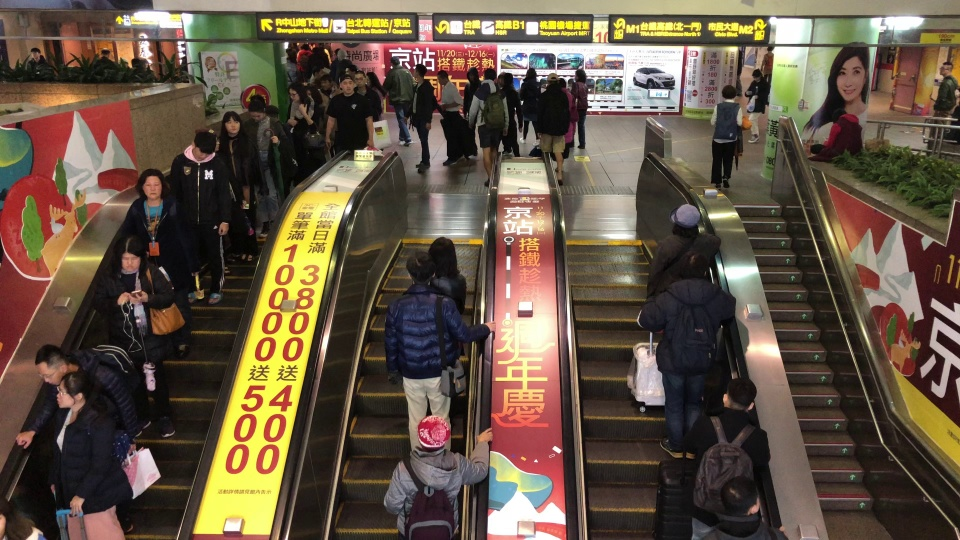person_head: (33, 344, 82, 385), (718, 475, 761, 516), (415, 414, 452, 451), (721, 376, 758, 412), (427, 236, 460, 275), (54, 373, 85, 410), (404, 251, 436, 285), (668, 203, 701, 235), (677, 250, 711, 280), (119, 237, 146, 274), (135, 167, 167, 198), (187, 132, 215, 163), (195, 126, 220, 151), (221, 111, 243, 138), (247, 94, 267, 121), (0, 497, 13, 537), (288, 82, 306, 102), (719, 84, 737, 103), (464, 68, 481, 85), (413, 63, 428, 82), (340, 74, 354, 93), (831, 108, 847, 124), (939, 61, 954, 76), (437, 68, 450, 85), (573, 68, 587, 83), (353, 71, 366, 87), (750, 67, 763, 83), (318, 74, 331, 89), (366, 72, 379, 87), (482, 68, 497, 81), (545, 72, 559, 85), (29, 47, 42, 60), (524, 68, 537, 81), (503, 72, 514, 87), (388, 56, 401, 68), (100, 47, 111, 57), (119, 57, 130, 67), (140, 57, 149, 69), (131, 56, 140, 68), (558, 77, 567, 89), (337, 49, 347, 58), (765, 44, 774, 53), (332, 48, 340, 58), (300, 43, 309, 50)
person_vbox: (14, 344, 144, 532), (383, 251, 496, 453), (639, 250, 738, 455), (32, 372, 129, 540), (100, 236, 176, 441), (381, 414, 493, 540), (687, 376, 771, 539), (124, 167, 191, 357), (166, 131, 232, 303), (646, 202, 721, 327), (244, 94, 301, 239), (194, 126, 243, 275), (221, 108, 257, 261), (700, 475, 774, 540), (468, 67, 508, 184), (709, 83, 751, 191), (404, 61, 438, 174), (537, 72, 570, 186), (325, 78, 375, 153), (427, 235, 470, 317), (380, 55, 417, 148), (286, 81, 318, 185), (807, 108, 863, 163), (434, 67, 463, 167), (551, 76, 578, 171), (0, 492, 47, 540), (743, 67, 770, 144), (517, 67, 542, 146), (502, 73, 523, 159), (569, 68, 590, 150), (317, 73, 341, 142), (352, 71, 382, 121), (932, 60, 959, 112), (462, 67, 482, 125), (366, 72, 387, 120), (757, 43, 775, 86), (90, 47, 118, 69), (296, 43, 312, 79), (26, 46, 48, 70), (336, 48, 352, 77), (139, 56, 157, 81), (329, 48, 341, 80)
